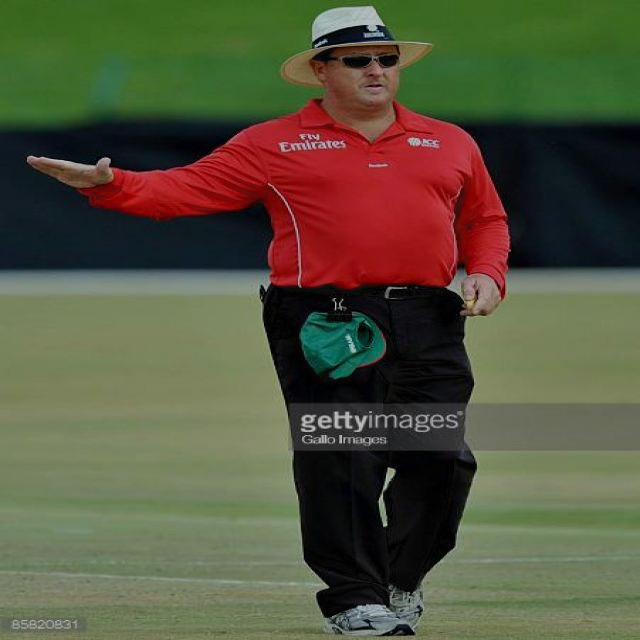No_Ball: (20, 0, 516, 638)
